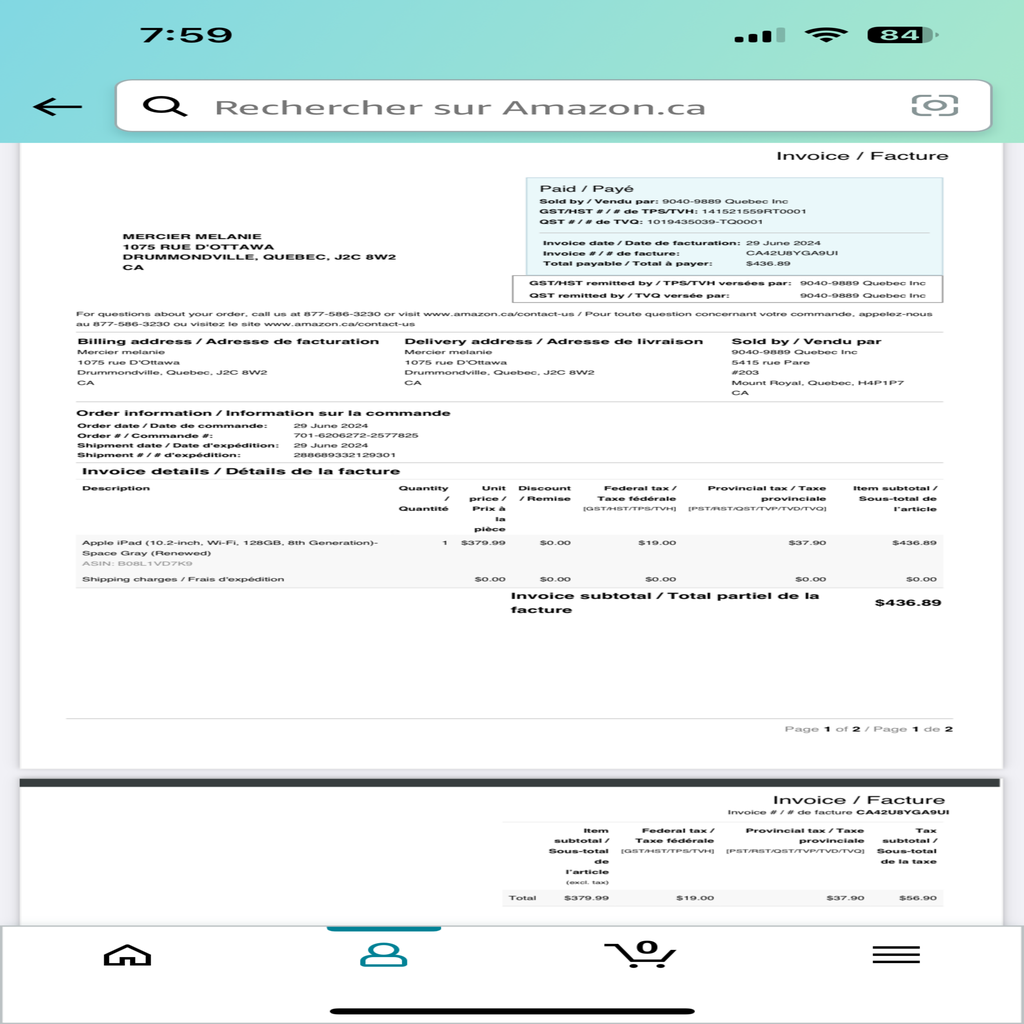recipt: (44, 151, 978, 919)
